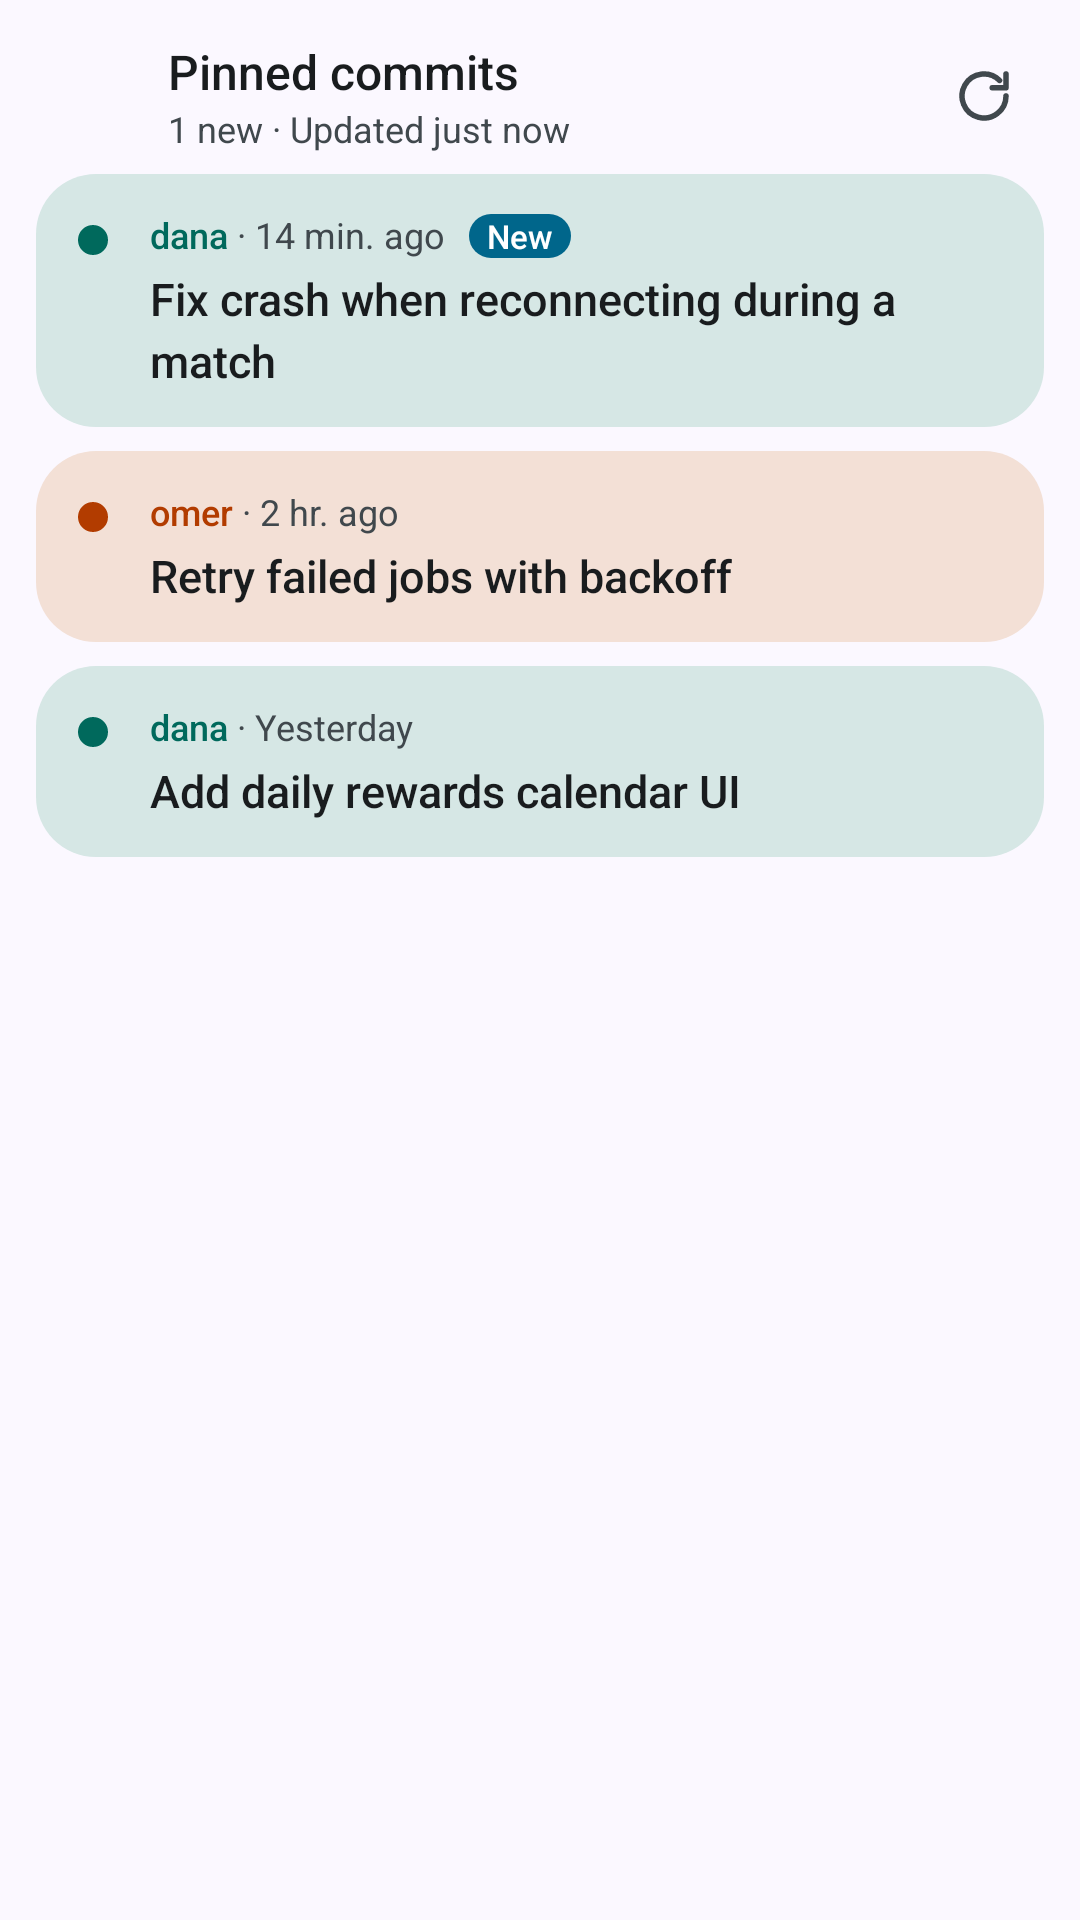

Named icons in this screenshot (1080*1920) and their centers, (x,y):
Refresh: (984,96)
